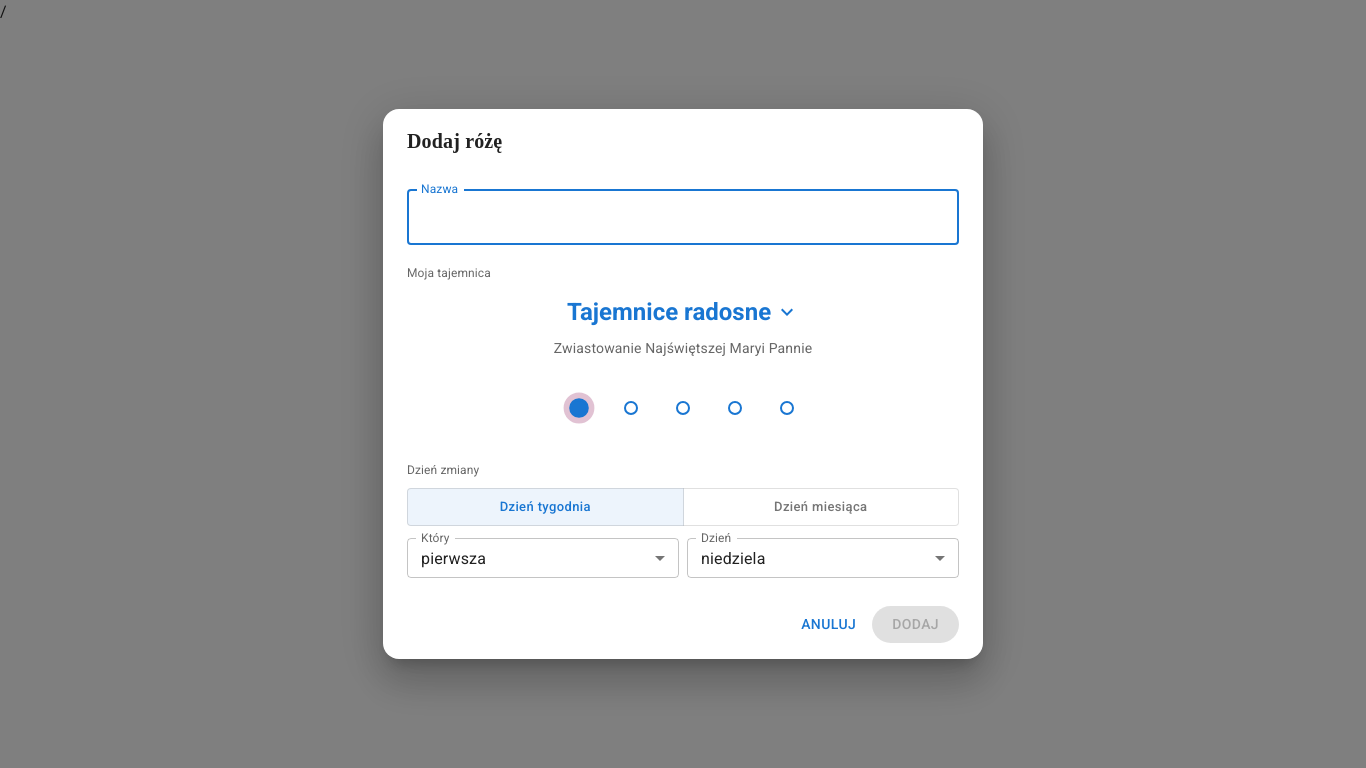
Scenario: AddRoseDialog › change day toggles weekday and day-of-month inputs
Expected: the field labelled "Dzień (1–31)" is not shown
Click the button "Dzień miesiąca": [821, 507] box x1=682 y1=488 x2=959 y2=526
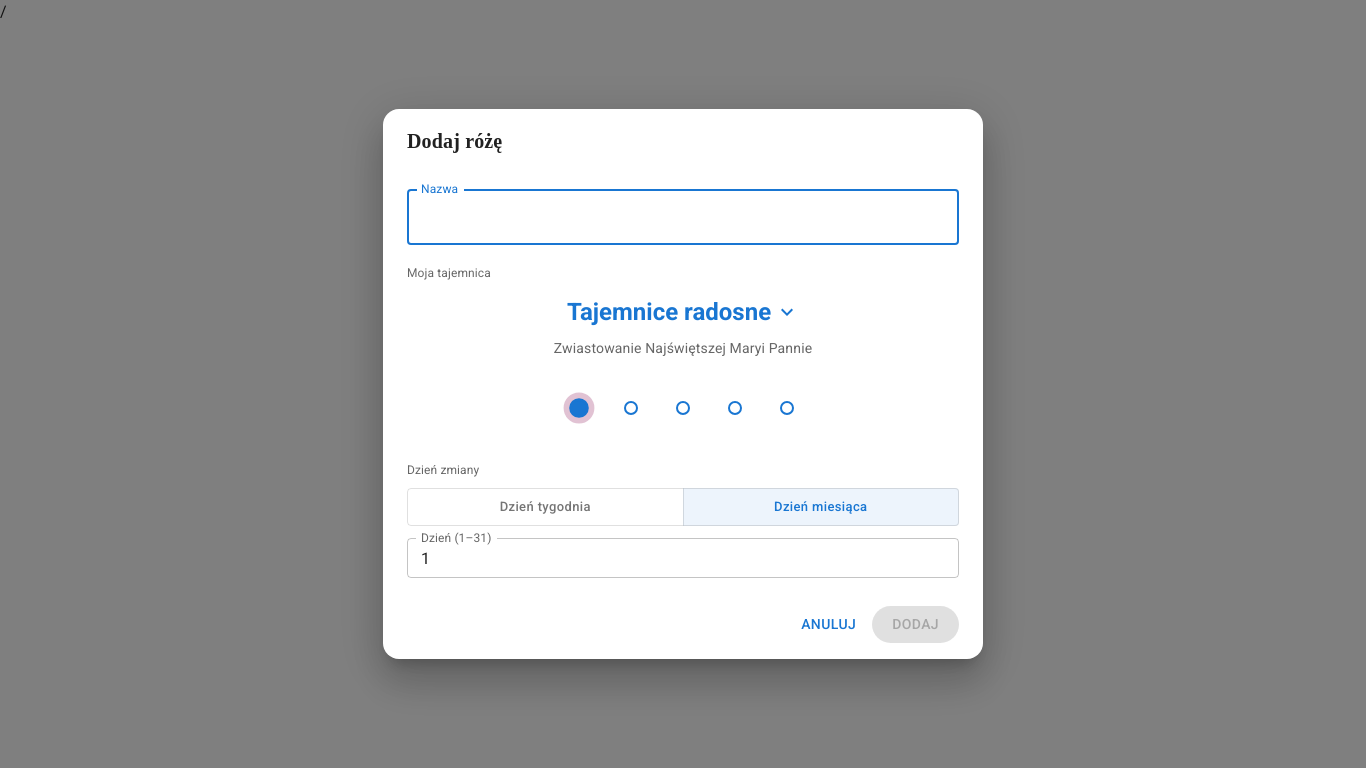
Expected: the label labelled "Który" is gone
Click the button "Dzień tygodnia": [545, 507] box x1=407 y1=488 x2=684 y2=526
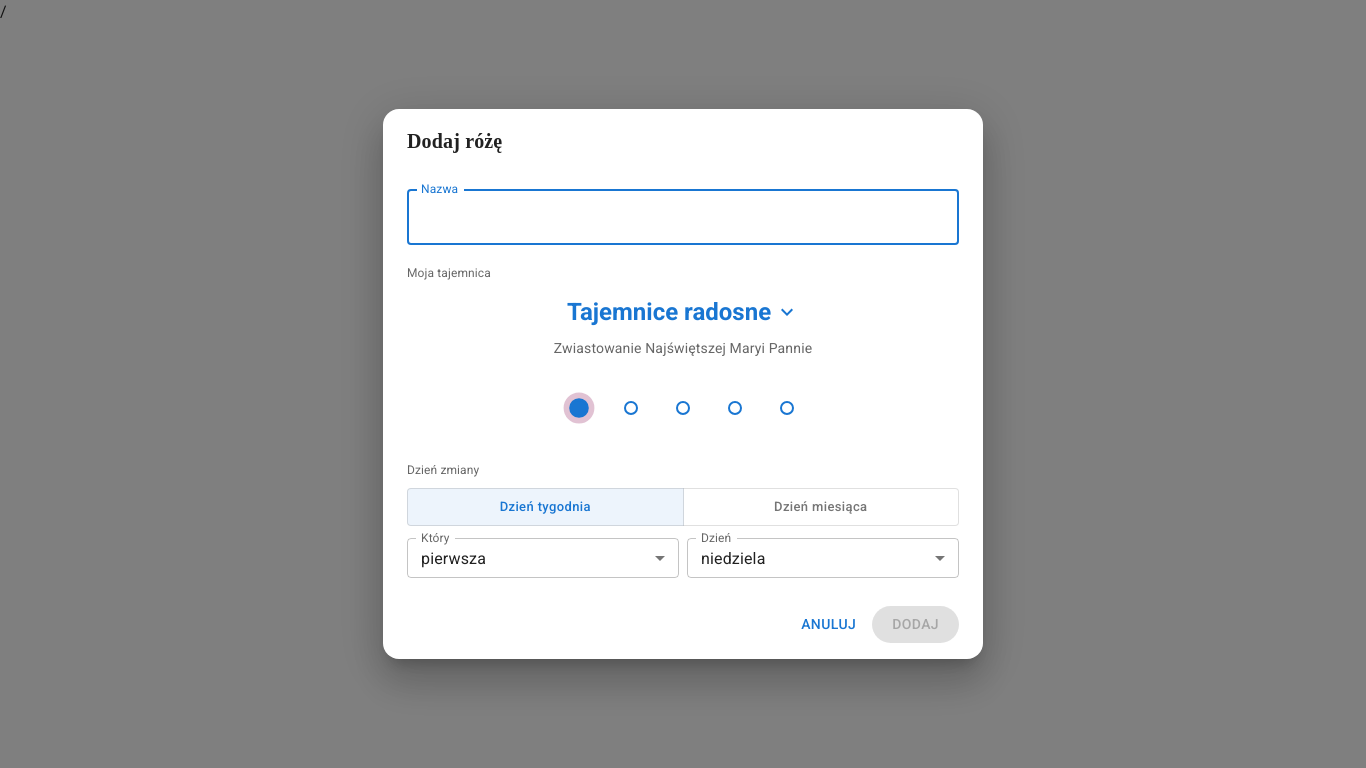
Expected: the dropdown labelled "Który" is shown, x1=407 y1=538 x2=679 y2=578
Expected: the label labelled "Dzień (1–31)" is gone
